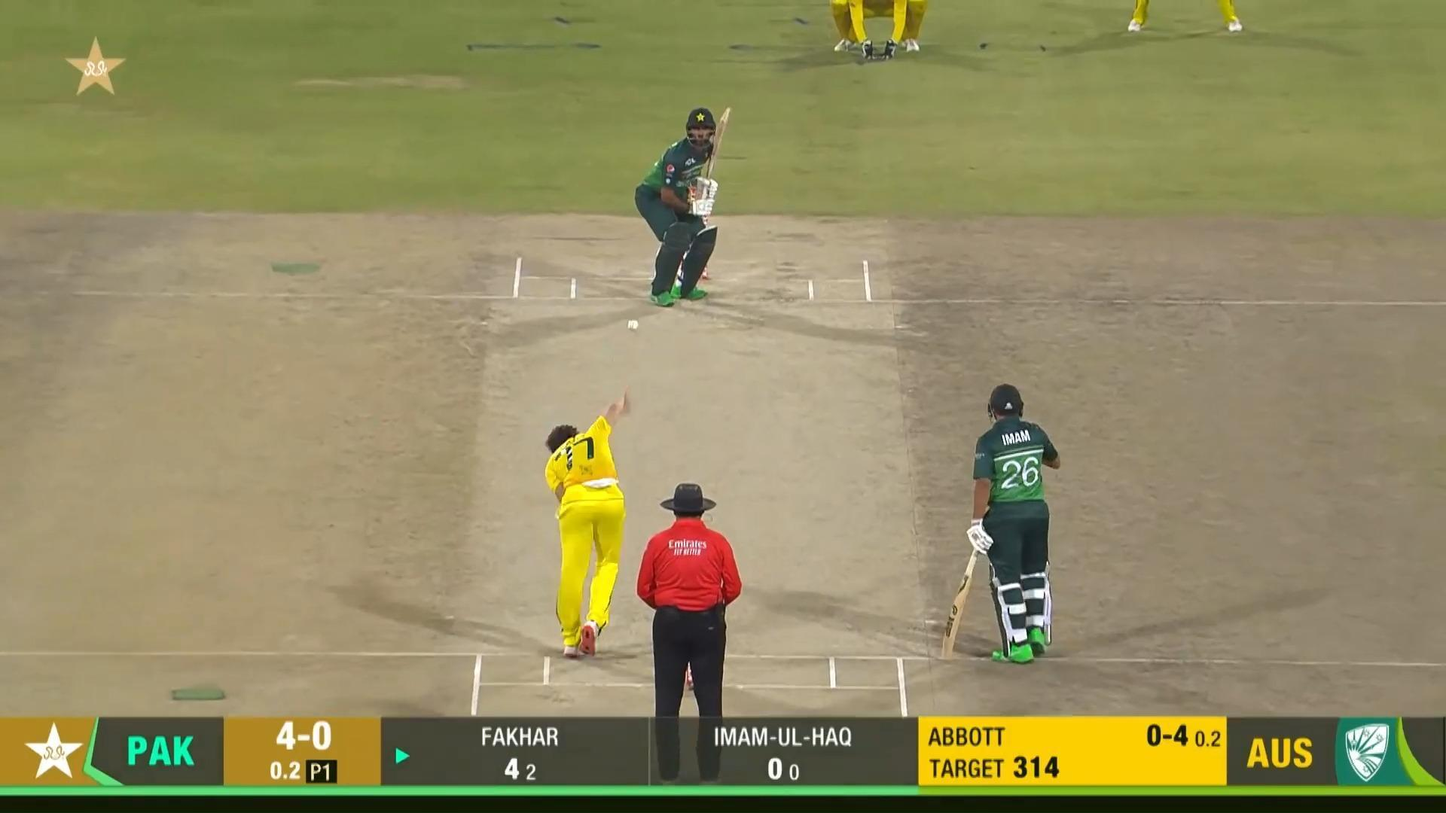BM 1: (633, 105, 734, 308)
BO: (542, 385, 636, 656)
